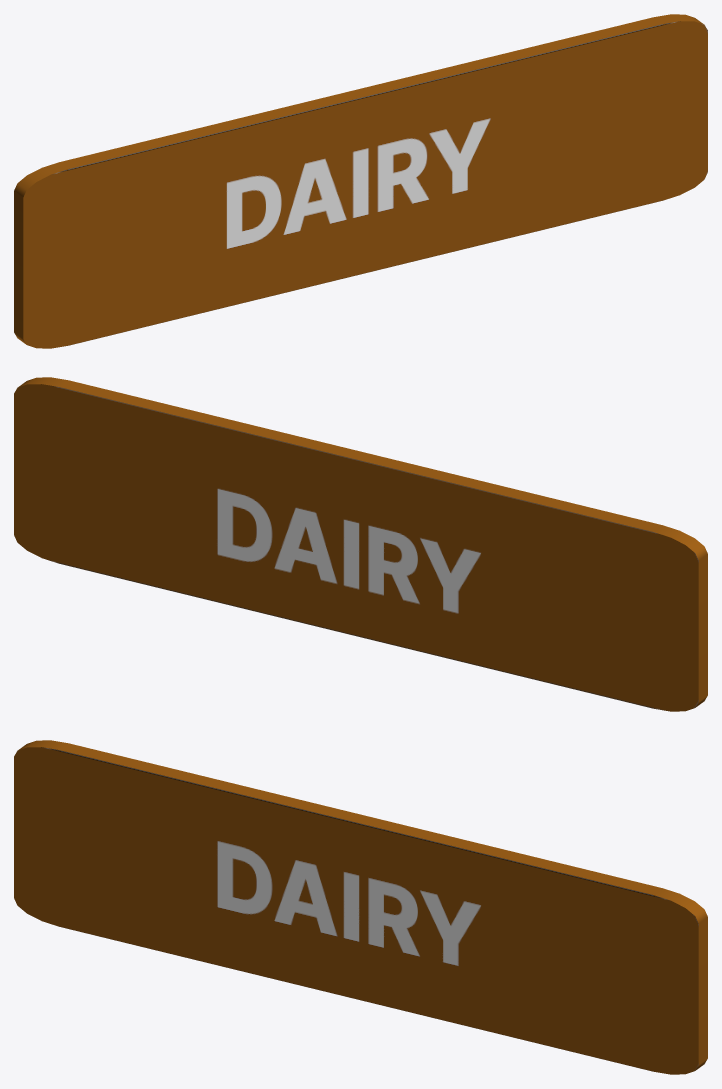
File: dairy-selection.fbx
3 renders of one model, top to bottom at view 1: azimuth 30°, elevation 25°; view 2: azimuth 150°, elevation 25°; view 3: azimuth 330°, elevation 25°, orthographic.
Visible parts, largest first — view 1: pasted__pCube1; view 2: pasted__pCube1; view 3: pasted__pCube1.
Part boxes in pixels (x1=…): pasted__pCube1: x1=14, y1=14, x2=707, y2=348; pasted__pCube1: x1=14, y1=377, x2=707, y2=711; pasted__pCube1: x1=14, y1=740, x2=707, y2=1074.
Size of the model in its own units: 42.52 by 10.49 by 1.
